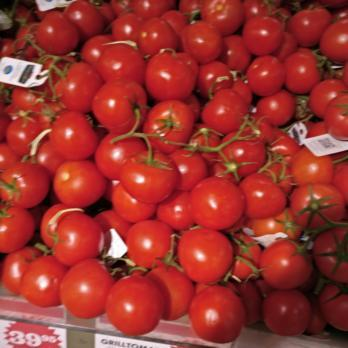Tomato: (0, 0, 348, 295)
